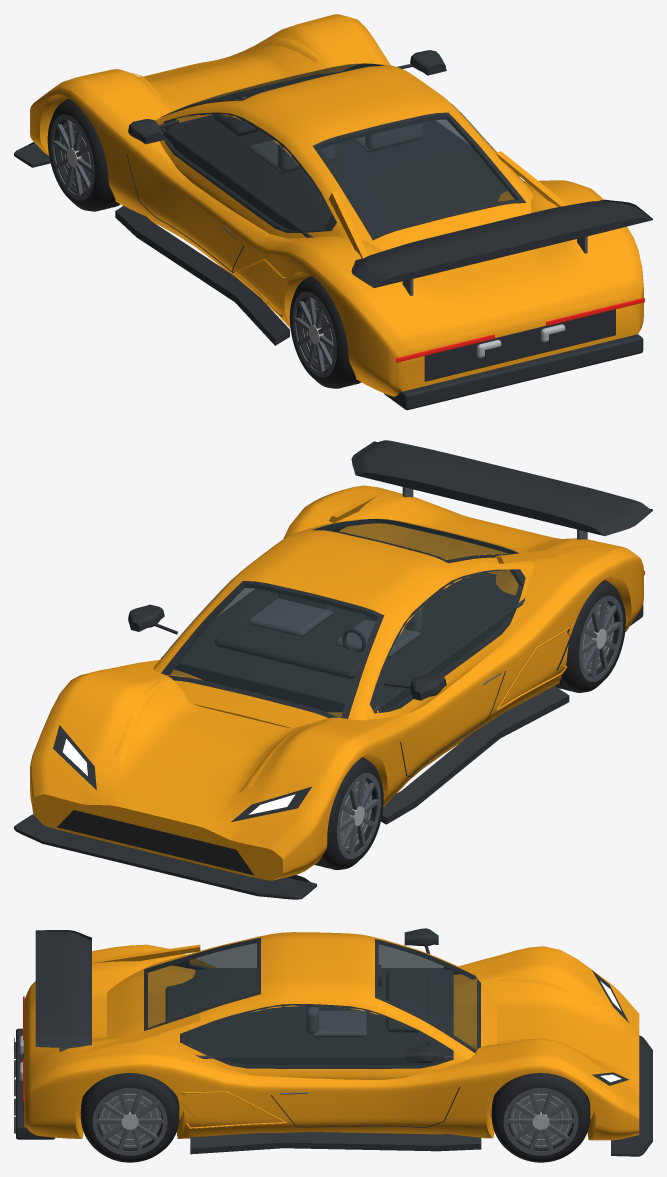
File: sports-car.glb
The picture shows the model from 3 angles, top to bottom: view 1: azimuth 30°, elevation 25°; view 2: azimuth 150°, elevation 25°; view 3: azimuth 270°, elevation 25°; orthographic projection. The views are drawn at different scales.
Visible parts, largest first — view 1: Body geometry, Running wheel geometry, Running wheel geometry.002; view 2: Body geometry, Running wheel geometry.002, Running wheel geometry; view 3: Body geometry, Running wheel geometry.001, Running wheel geometry.003.
Part boxes in pixels (bbox=[...]): Body geometry: bbox=[14, 14, 652, 410]; Running wheel geometry: bbox=[47, 99, 120, 211]; Running wheel geometry.002: bbox=[289, 276, 361, 388]; Body geometry: bbox=[14, 440, 652, 899]; Running wheel geometry.002: bbox=[555, 580, 625, 692]; Running wheel geometry: bbox=[314, 757, 383, 869]; Body geometry: bbox=[14, 928, 652, 1156]; Running wheel geometry.001: bbox=[491, 1073, 590, 1162]; Running wheel geometry.003: bbox=[80, 1073, 179, 1162].
Size of the model in its own units: 1.5 by 0.8132 by 3.16.
